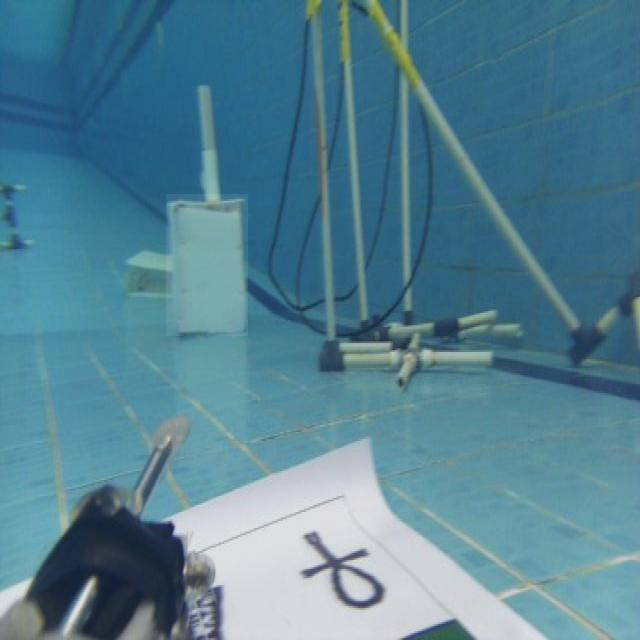Cube: (166, 194, 248, 336)
